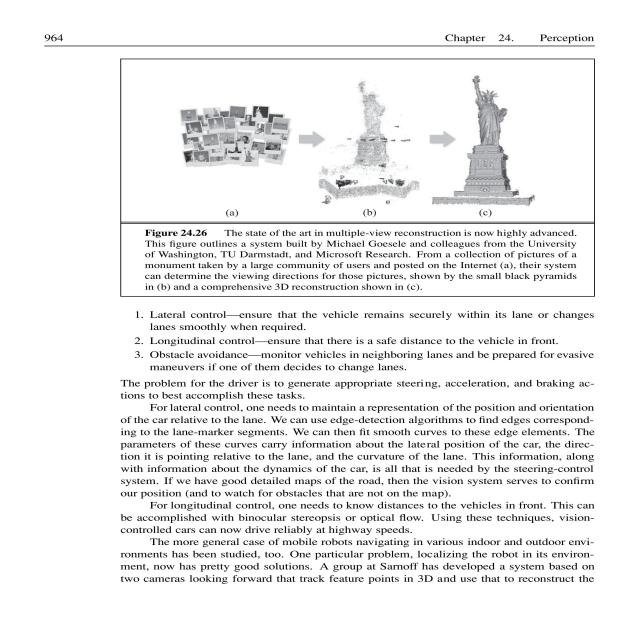diagram: (89, 50, 640, 292)
